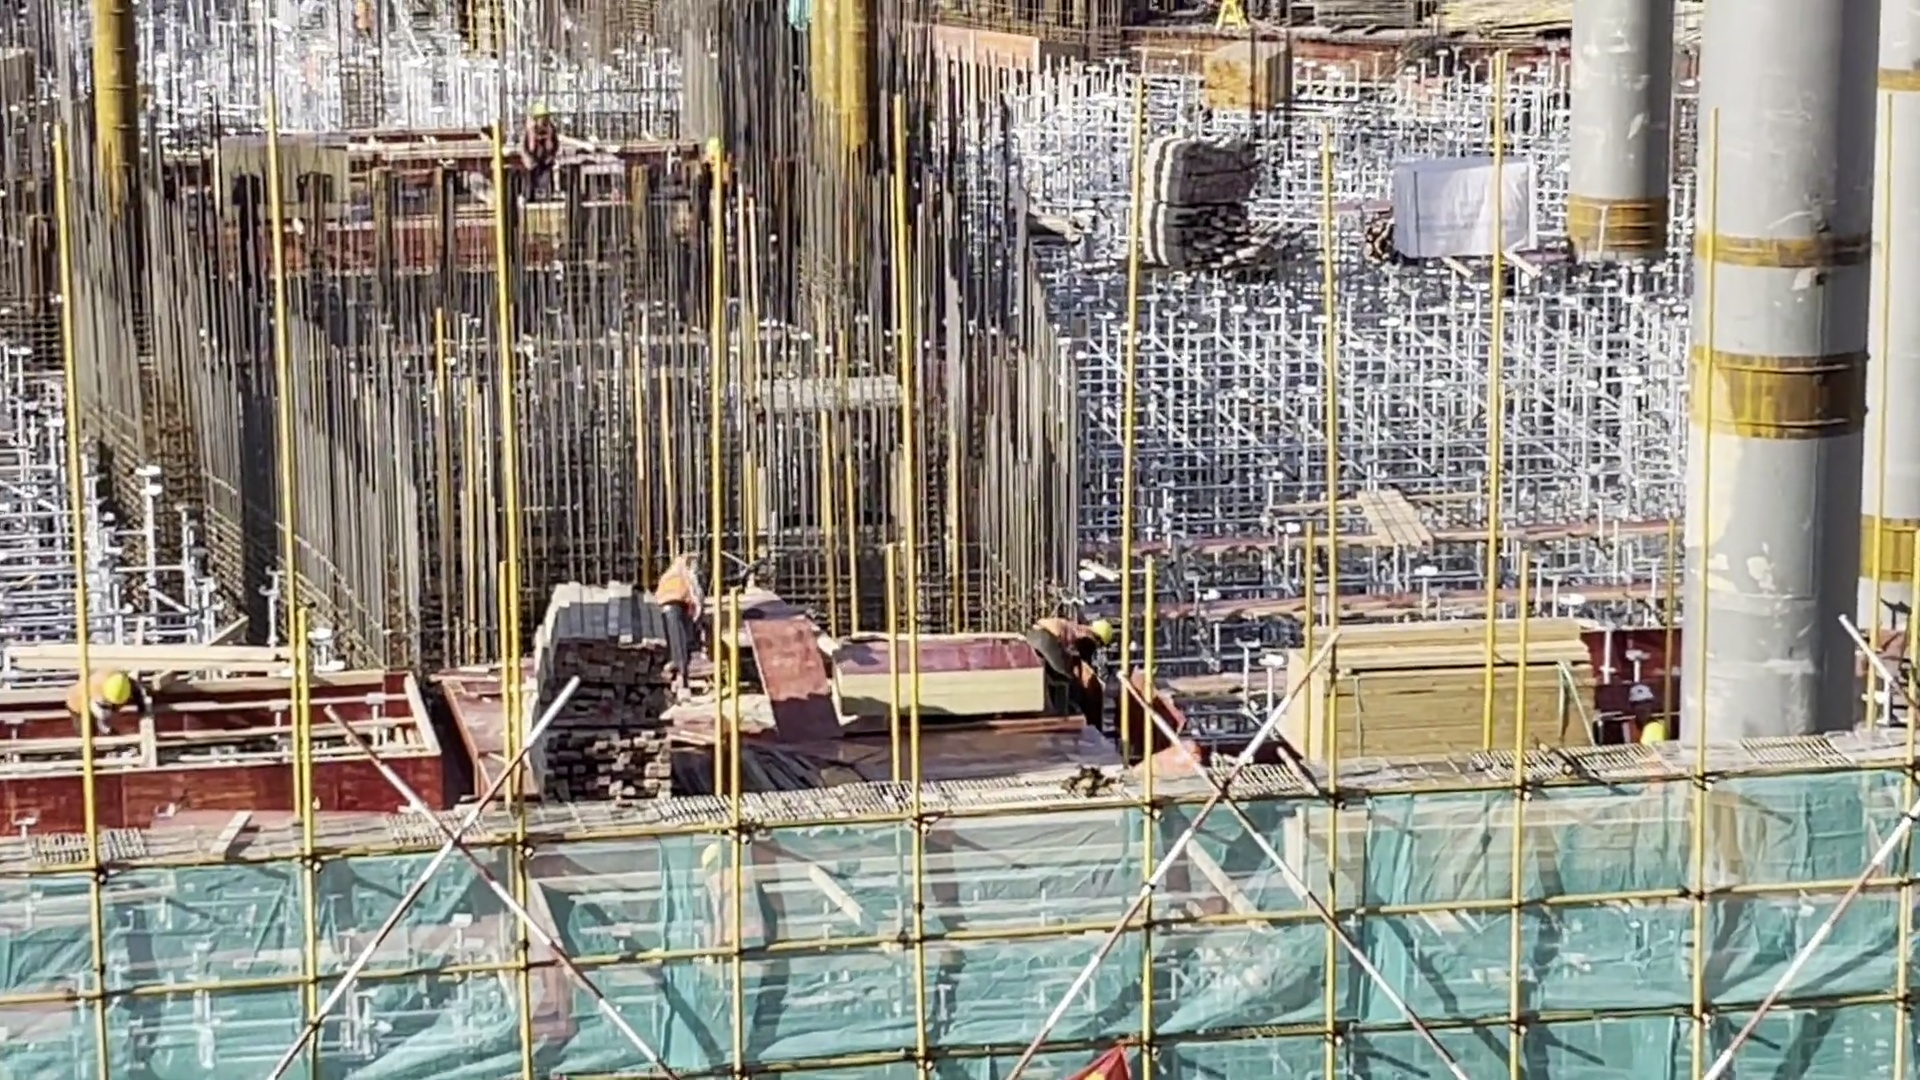helmet: (702, 844, 732, 870), (1088, 618, 1116, 644), (108, 678, 127, 700), (1644, 724, 1661, 746), (1628, 686, 1652, 702), (530, 106, 551, 117)
person: (688, 844, 781, 991), (1023, 617, 1119, 723), (654, 558, 701, 701), (65, 666, 144, 752), (1620, 681, 1677, 757), (516, 107, 559, 206)
vest: (712, 870, 766, 946), (657, 559, 698, 603), (1032, 616, 1090, 643), (525, 127, 556, 158), (1624, 720, 1641, 749)
